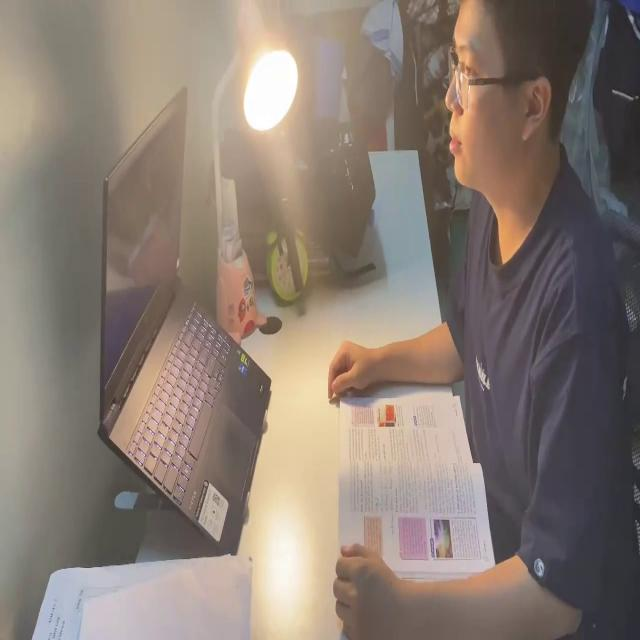book: (339, 369, 501, 593), (28, 557, 252, 640)
laptop: (94, 79, 272, 552)
student: (326, 0, 640, 640)
